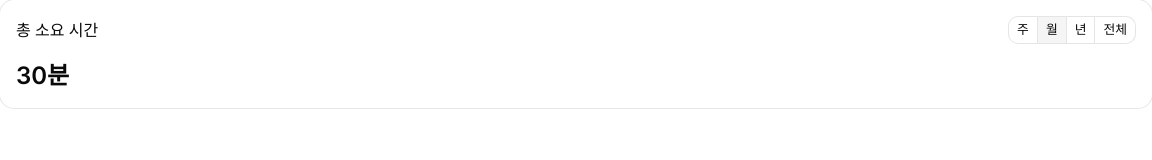
Test: TimeSummary › 년 탭 선택 시 올해 합계로 바뀐다
Click the radio button labelled "년" at (1081, 30), box x1=1067 y1=16 x2=1096 y2=44
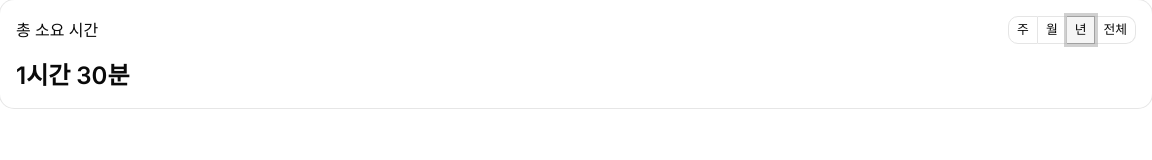
Expected: the text "1시간 30분" is shown, x1=16 y1=61 x2=130 y2=90
